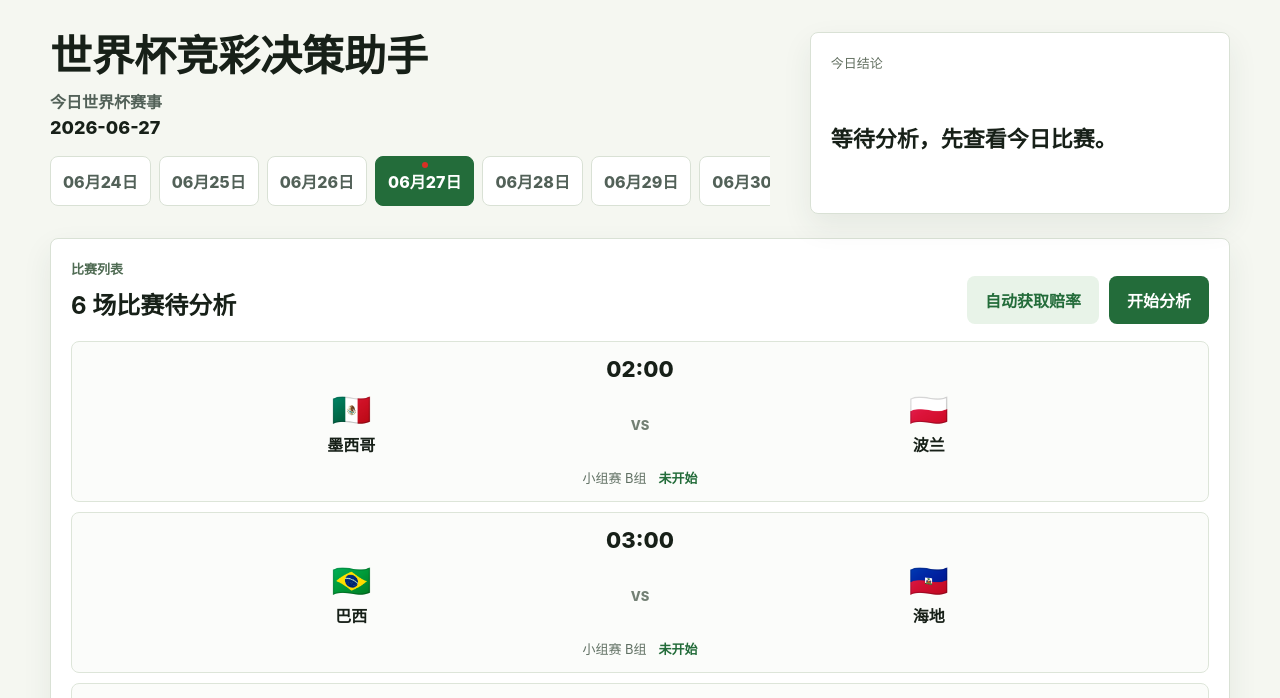
Test: App › shows matches first, then recommendations after analysis
The width and height of the screenshot is (1280, 698).
Expected: the text "今日世界杯赛事" is shown, 50,92 -> 162,112
Click the button "开始分析": (1159, 300) 1109,276 -> 1209,324
(page scrolled)
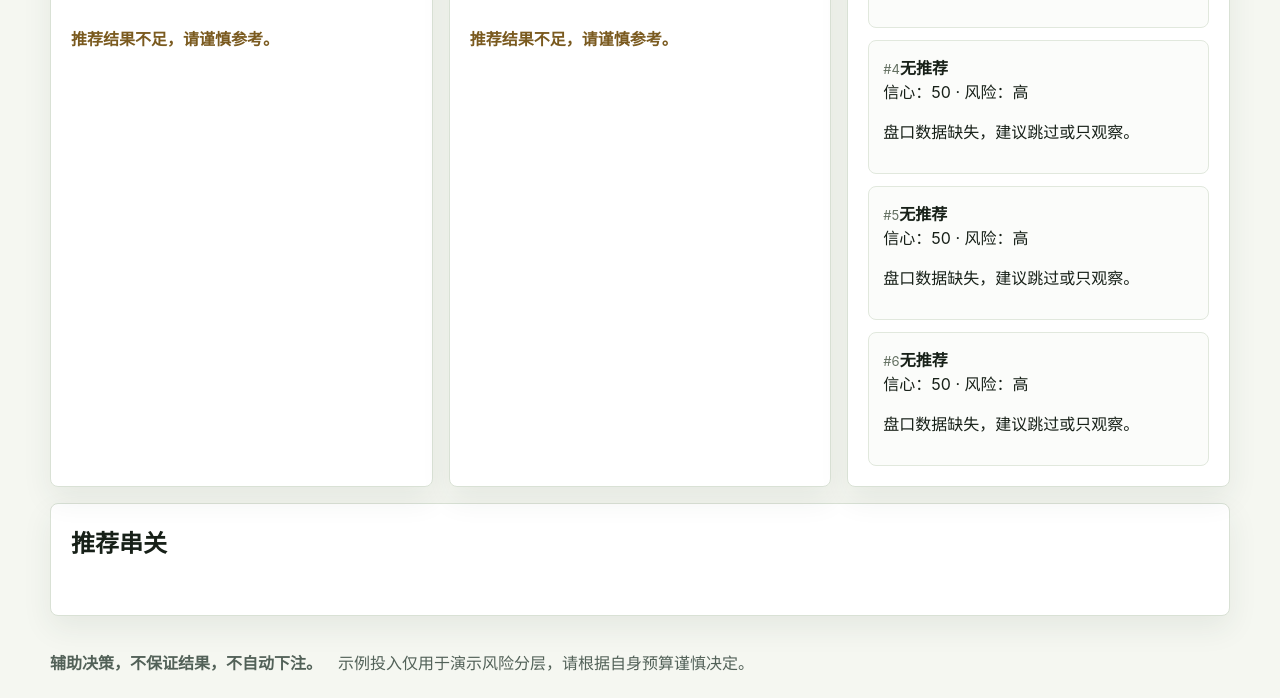
Expected: the text "辅助决策，不保证结果，不自动下注。" is shown, 50,650 -> 322,674
Now the heading "推荐串关" is shown, box 71,529 -> 167,558
